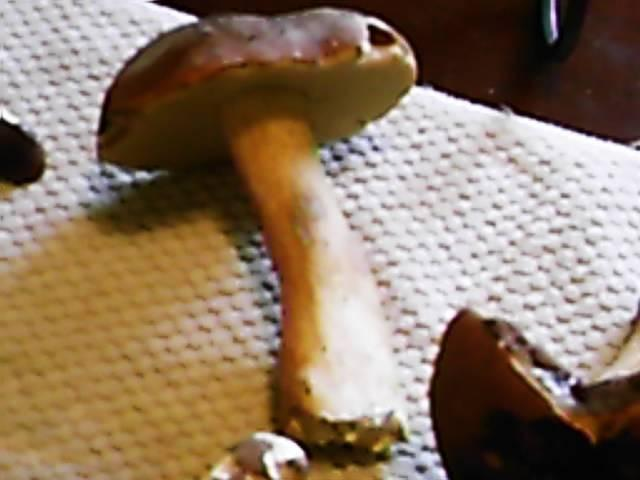Non-edible Mushroom: (94, 6, 418, 459)
